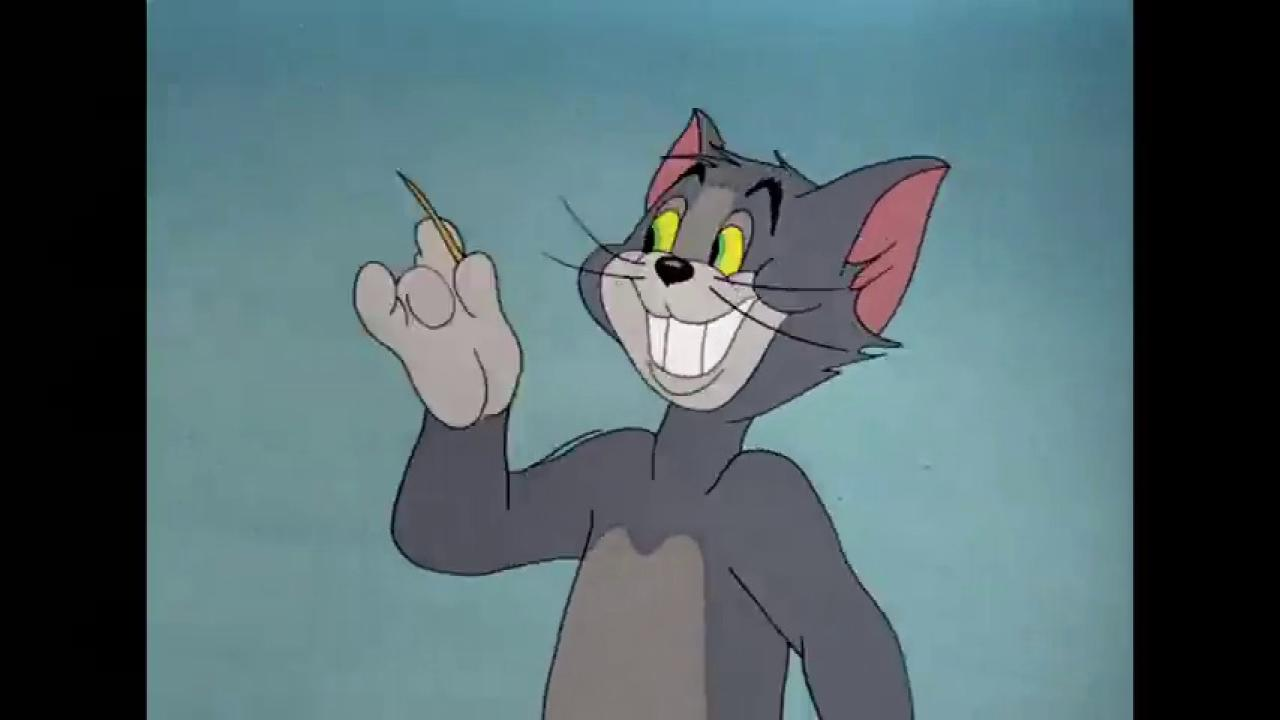Tom: (353, 105, 953, 720)
